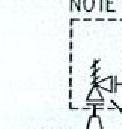psv: (83, 57, 113, 105)
